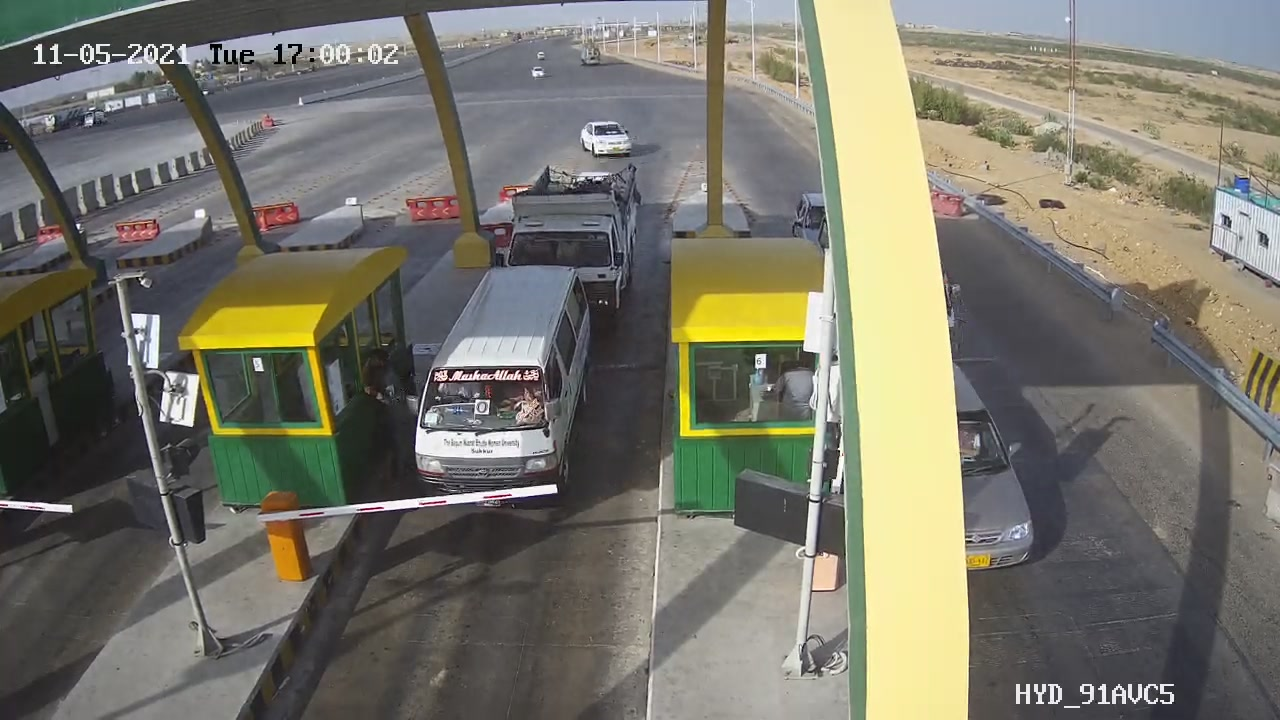F2: (392, 253, 614, 521)
